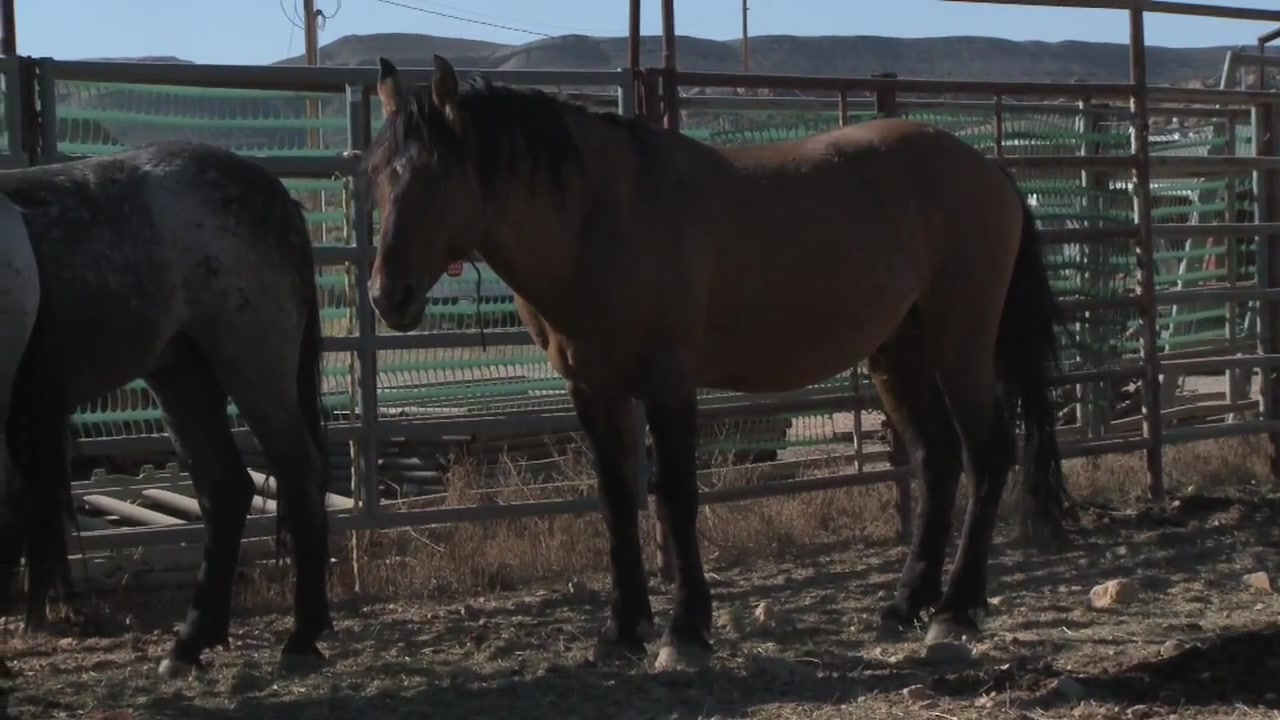horse: (361, 53, 1070, 673), (1, 136, 335, 692)
